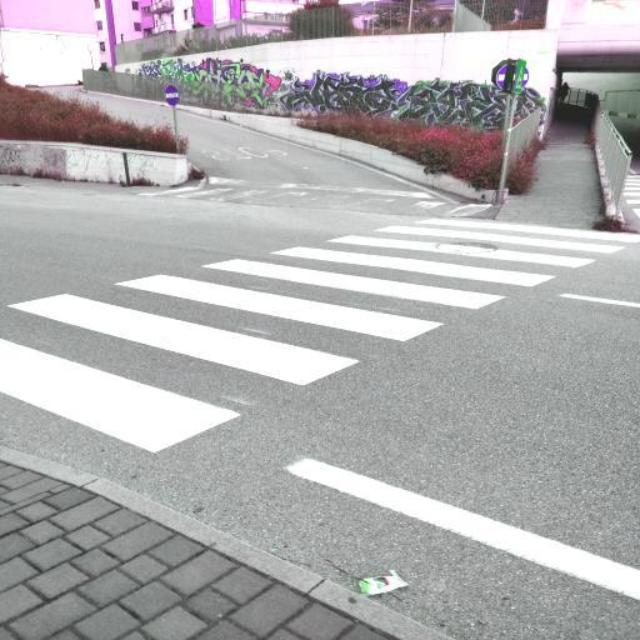sidewalk: (2, 217, 639, 454)
